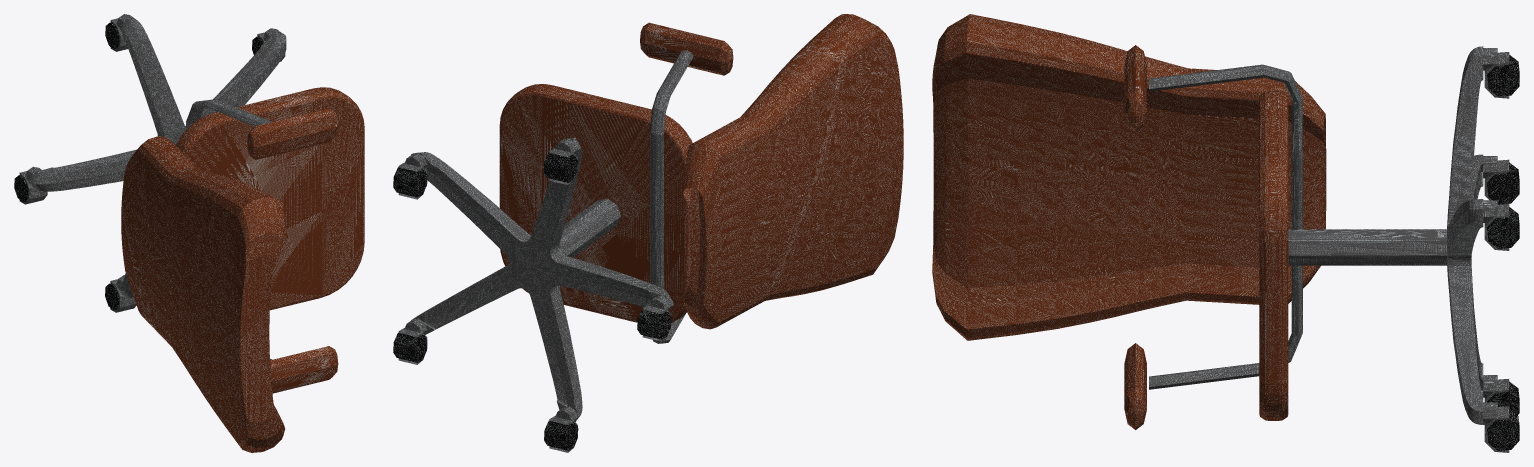
3 views of the same model, side by side, from view 1: azimuth 30°, elevation 25°; view 2: azimuth 150°, elevation 25°; view 3: azimuth 270°, elevation 25° (orthographic). The views are drawn at different scales.
Parts seen in each view (by area): view 1: office chair archicad; view 2: office chair archicad; view 3: office chair archicad.
Part boxes in pixels (x1=…): office chair archicad: x1=14, y1=14, x2=364, y2=452; office chair archicad: x1=393, y1=14, x2=903, y2=452; office chair archicad: x1=932, y1=14, x2=1519, y2=452.
Size of the model in its own units: 29.81 by 31.91 by 45.7.
